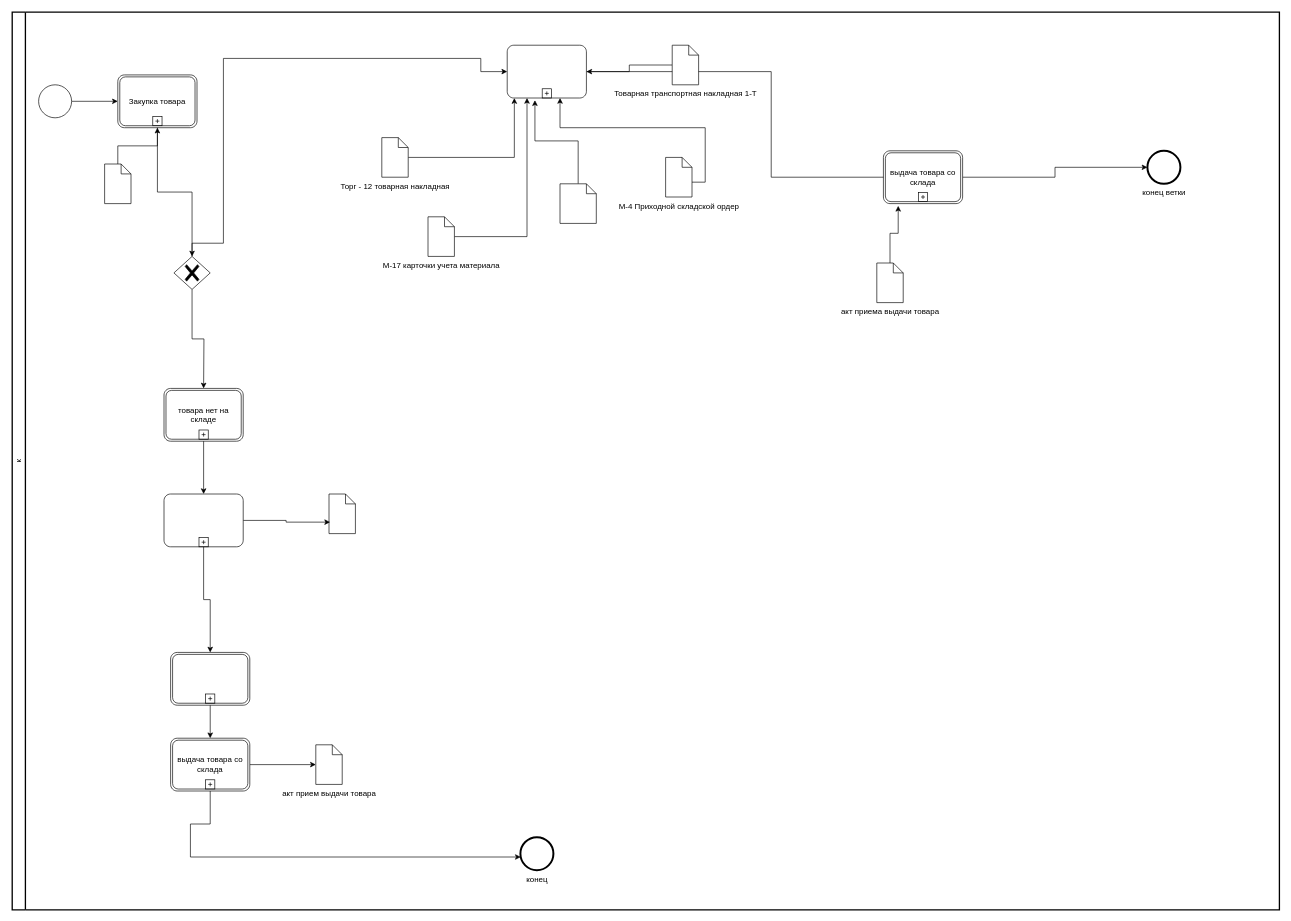
Some shapes in this 1291 by 921 pixel diagram are drawn without their labels. The shapes that lost their labels are listed below. From the top down, each one's centre as x and y in pixels, then its label:
At point (546, 71): "товар есть на складе".
At point (117, 183): "товарная накладная".
At point (577, 203): "Торг-1 Акт о приемке товара".
At point (203, 520): "заявка на закупку товара".
At point (341, 513): "Заявка на преобретение товара".
At point (210, 678): "изготвлене товара".
